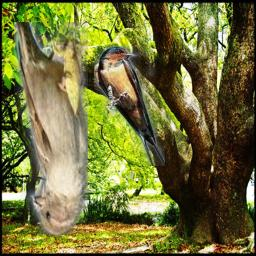Sparrow: (14, 22, 88, 235)
Swallow: (94, 46, 165, 166)
